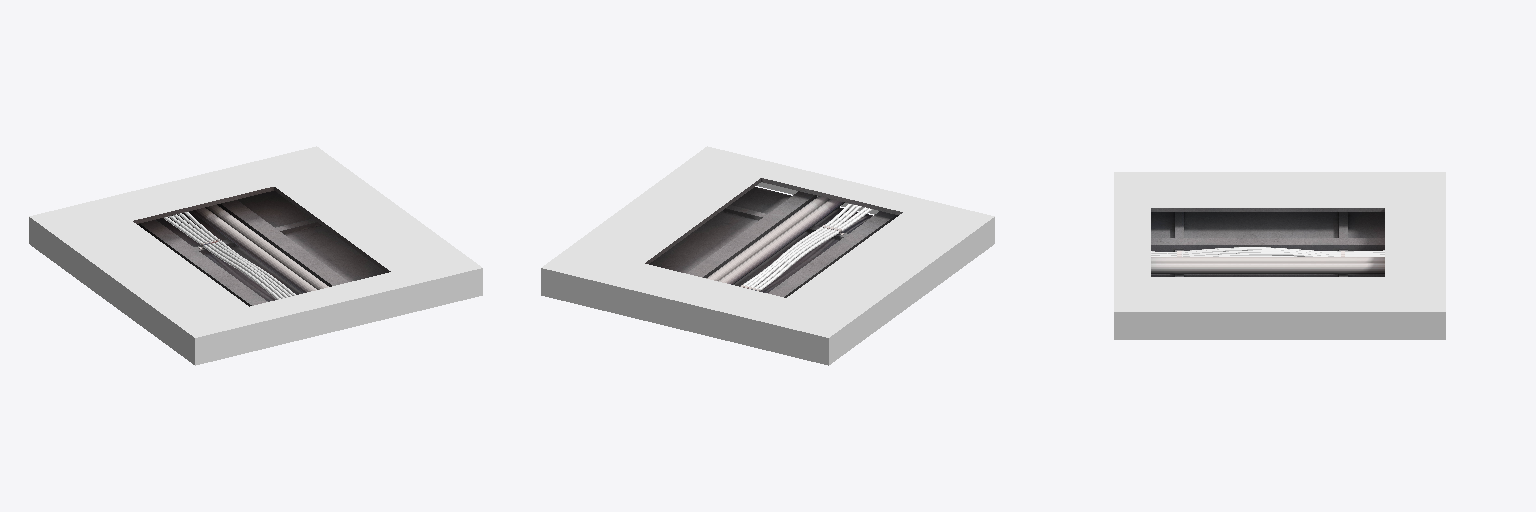
3 views of the same model, side by side, from view 1: azimuth 30°, elevation 25°; view 2: azimuth 150°, elevation 25°; view 3: azimuth 270°, elevation 25° (orthographic).
Visible parts, largest first — view 1: WALL_out001, WALL_B001, pipe001, cable001, WALL_A001; view 2: WALL_out001, WALL_B001, pipe001, cable001, WALL_A001; view 3: WALL_out001, WALL_B001, pipe001, cable001, WALL_A001.
Boxes of the visible parts, x1=… form: WALL_out001: x1=29, y1=146, x2=482, y2=365; WALL_B001: x1=137, y1=191, x2=385, y2=306; pipe001: x1=191, y1=205, x2=328, y2=292; cable001: x1=164, y1=212, x2=295, y2=299; WALL_A001: x1=133, y1=187, x2=390, y2=272; WALL_out001: x1=541, y1=146, x2=994, y2=365; WALL_B001: x1=649, y1=187, x2=898, y2=297; pipe001: x1=706, y1=196, x2=844, y2=284; cable001: x1=743, y1=204, x2=872, y2=290; WALL_A001: x1=645, y1=178, x2=902, y2=263; WALL_out001: x1=1114, y1=172, x2=1445, y2=339; WALL_B001: x1=1151, y1=212, x2=1384, y2=276; pipe001: x1=1151, y1=257, x2=1384, y2=273; cable001: x1=1151, y1=247, x2=1384, y2=256; WALL_A001: x1=1151, y1=208, x2=1384, y2=211.
Size of the model in its own units: 5.68 by 0.52 by 5.68.
6 materials, 4 textured.